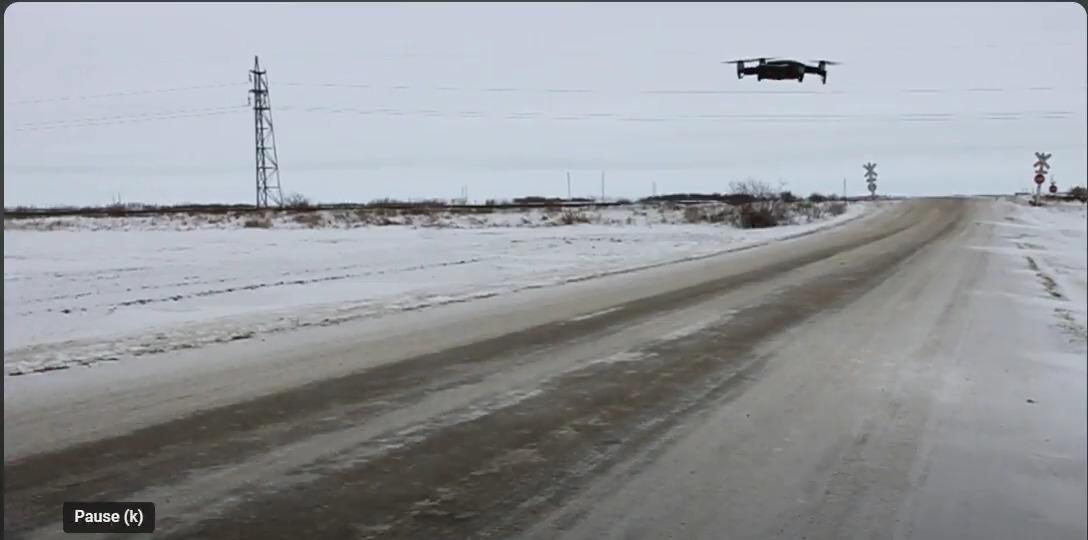dr: (707, 38, 884, 103)
